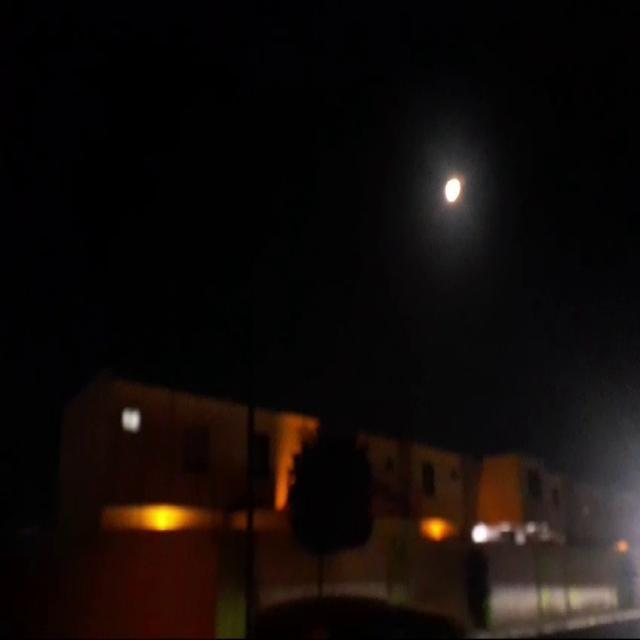moon: (456, 167, 476, 201)
